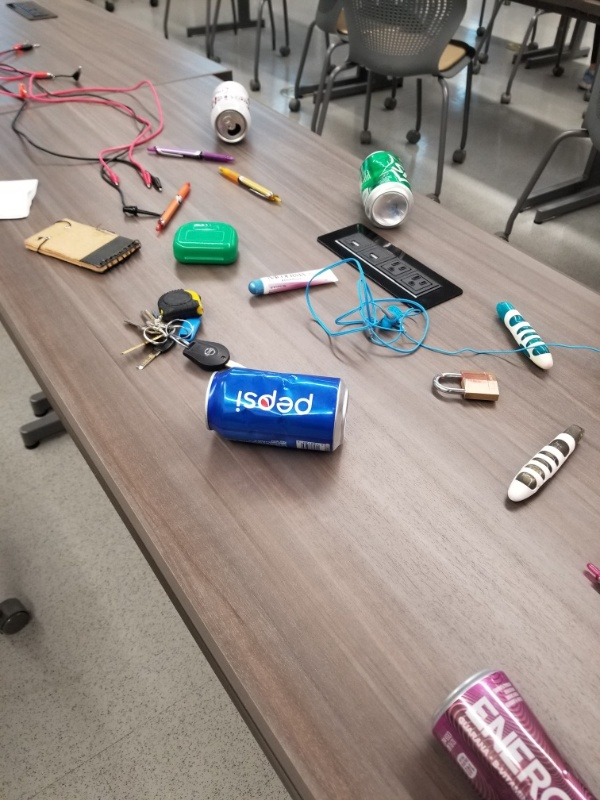can: (428, 661, 600, 800), (196, 366, 357, 466), (354, 148, 418, 232), (207, 79, 254, 149)
